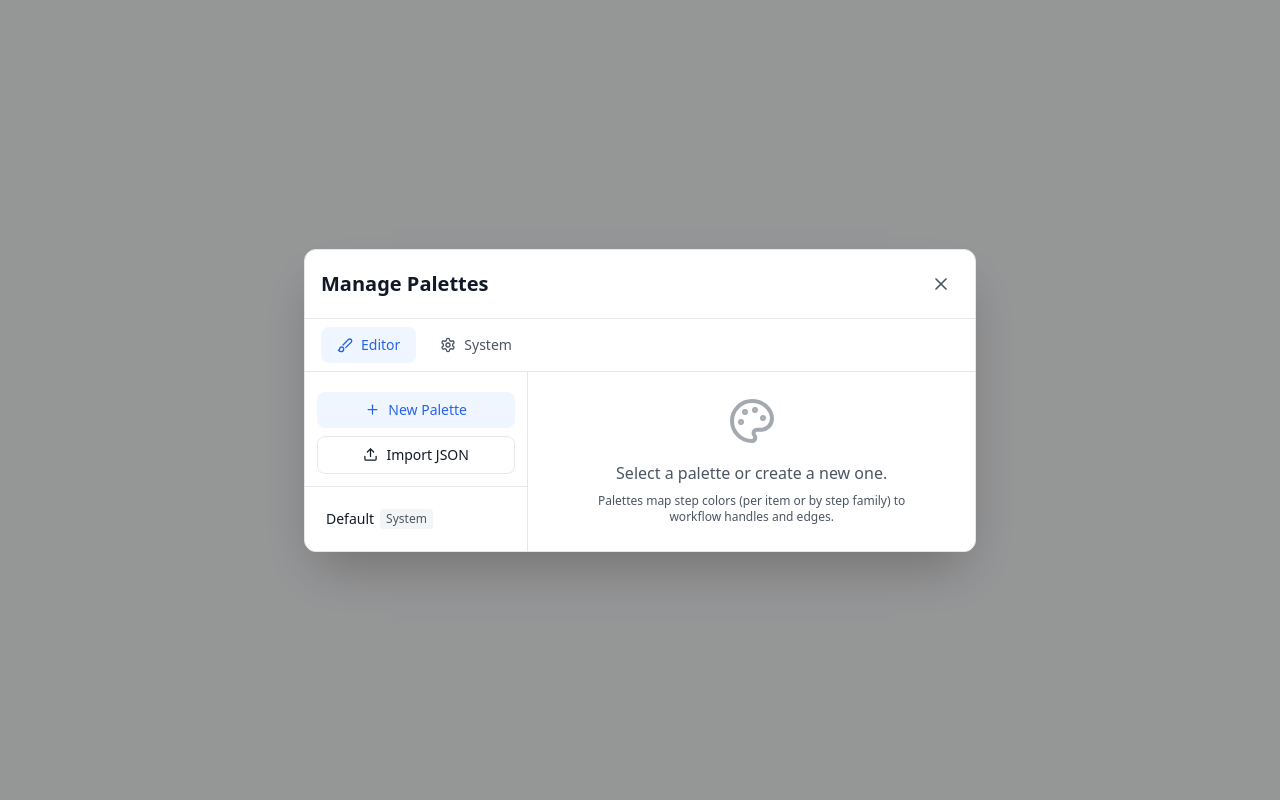
Test case: PaletteManager › disables Export JSON until name is non-empty
Step 1. Click the button "New Palette" → coordinates (416, 410), box [317,392,515,428]
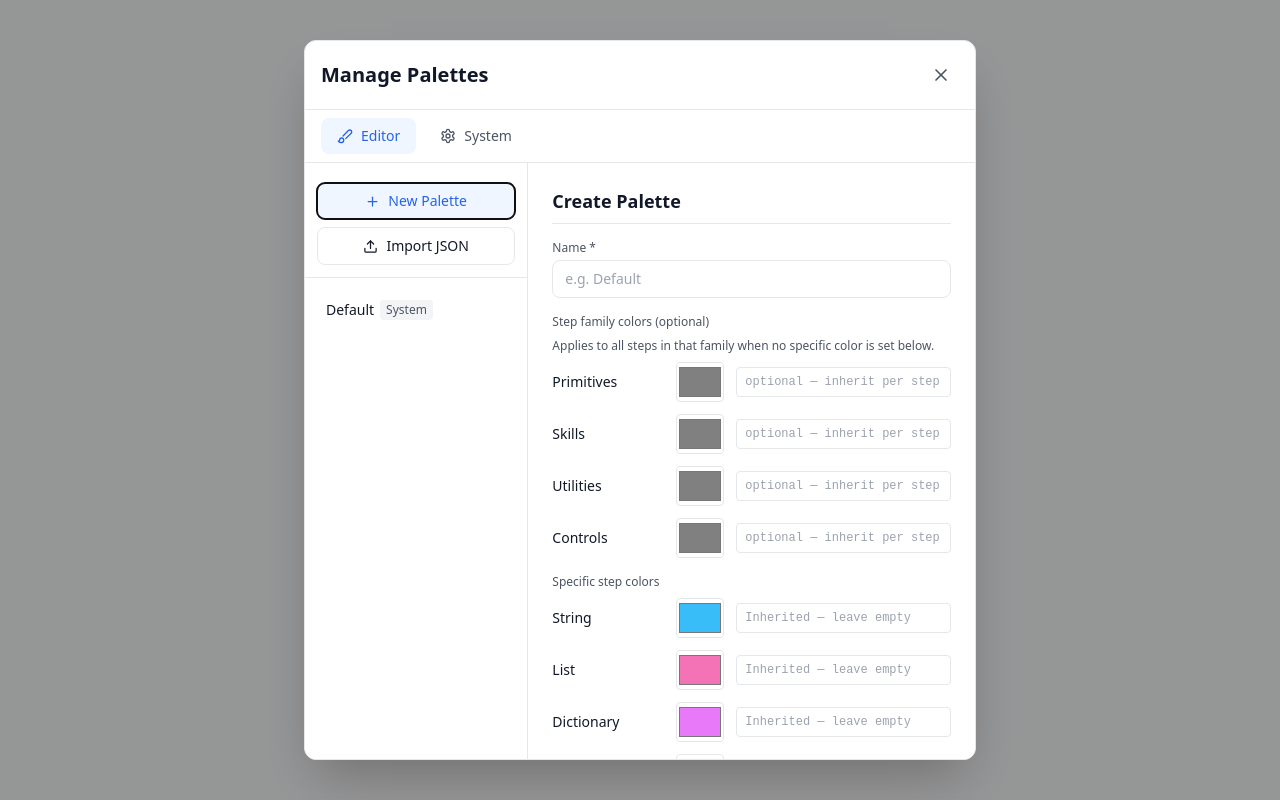
Step 2. Type "Named" into the field with placeholder "e.g. Default" → coordinates (752, 279), box [552,260,951,298]
(page scrolled)
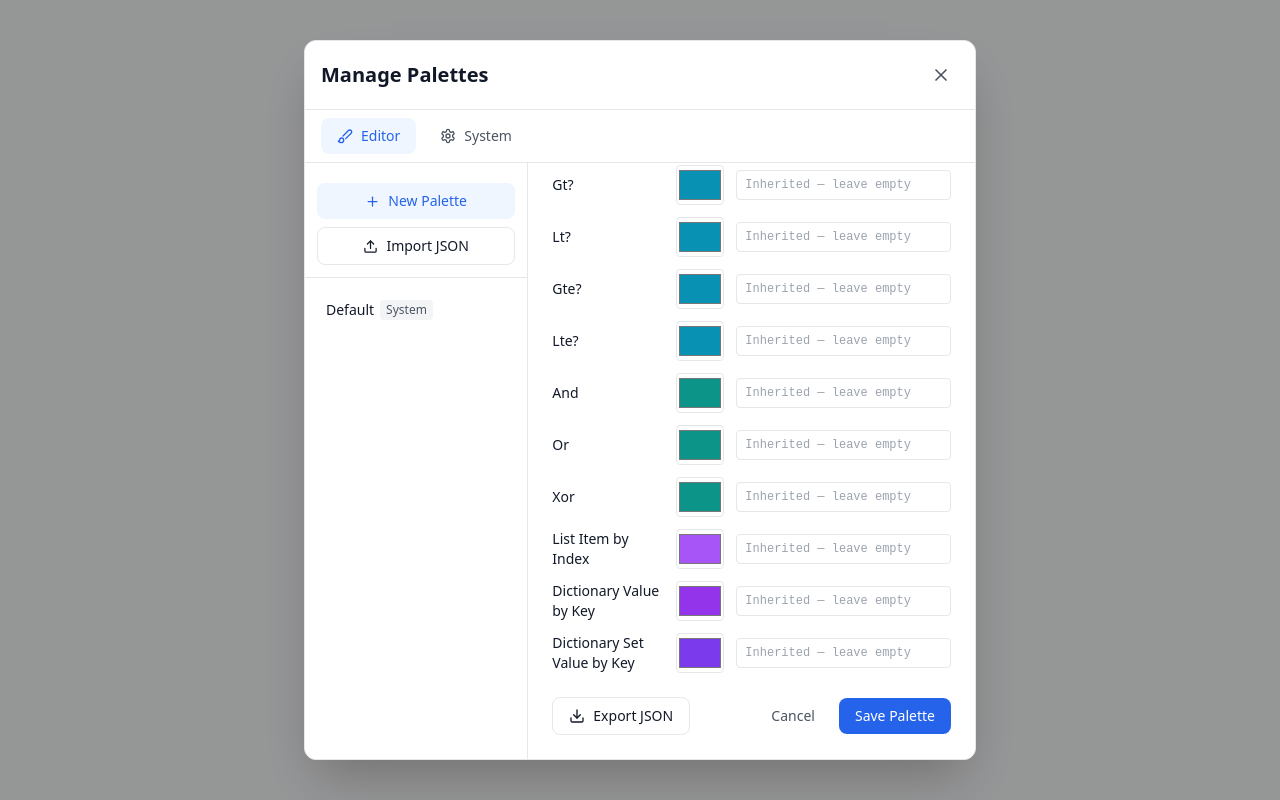
Result: the button "Export JSON" is enabled at [552,697,690,735]
